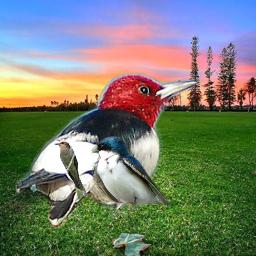Cuckoo: (54, 141, 88, 207)
Swallow: (91, 135, 171, 216)
Woodpecker: (15, 73, 203, 229)
